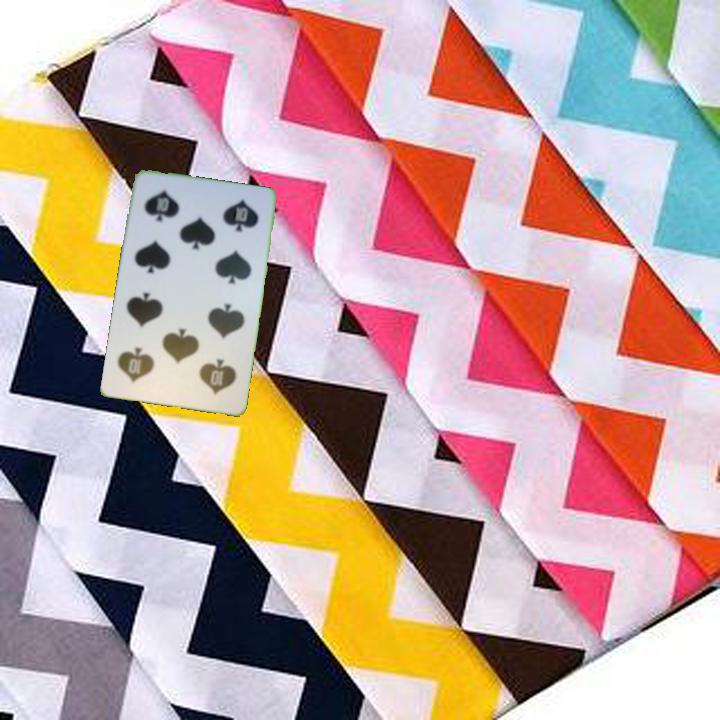s_10.png: (133, 178, 207, 245), (171, 339, 245, 406)
